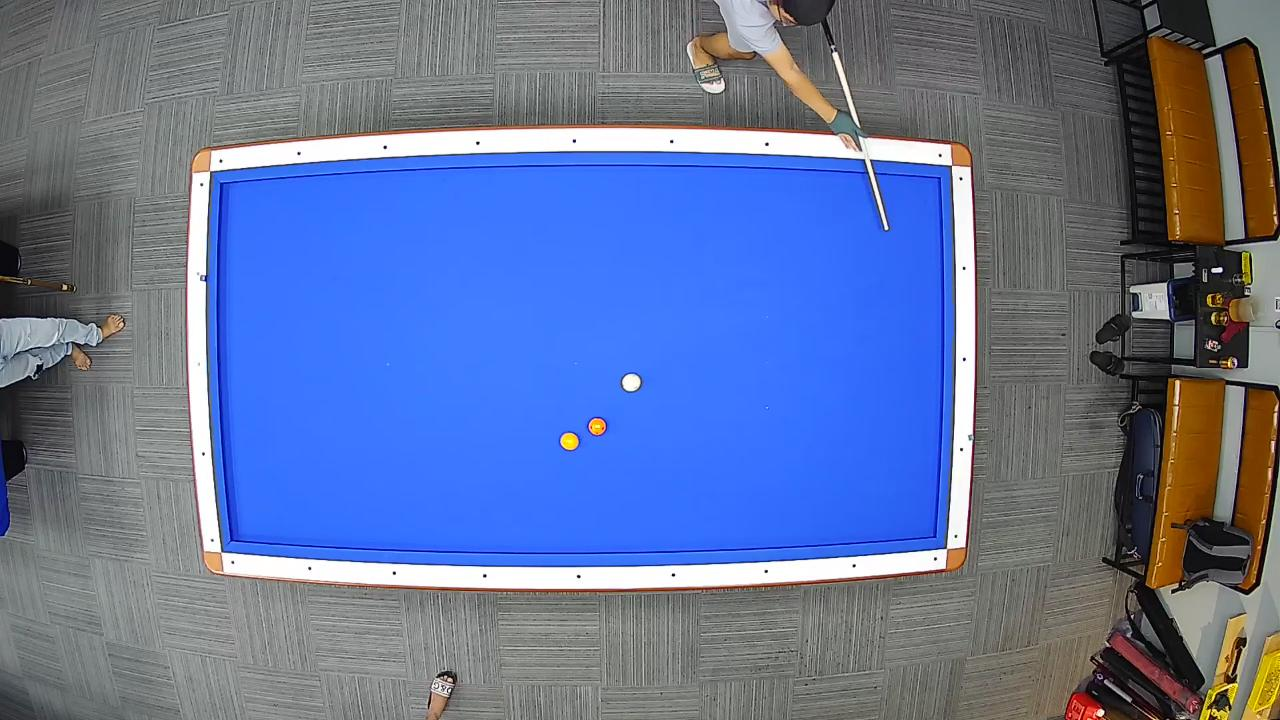Orange: (587, 417, 608, 436)
White: (620, 372, 643, 393)
Yellow: (558, 432, 580, 452)
